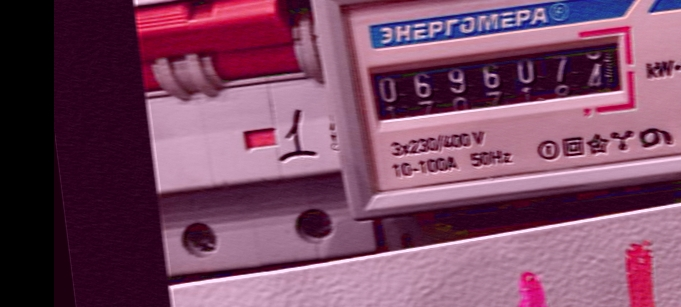0: (516, 57, 538, 89), (378, 77, 400, 107)
4: (586, 63, 606, 93)
6: (481, 63, 504, 94), (413, 71, 435, 101)
7: (552, 54, 572, 86)
9: (448, 68, 468, 98)
screen: (353, 20, 647, 143)
